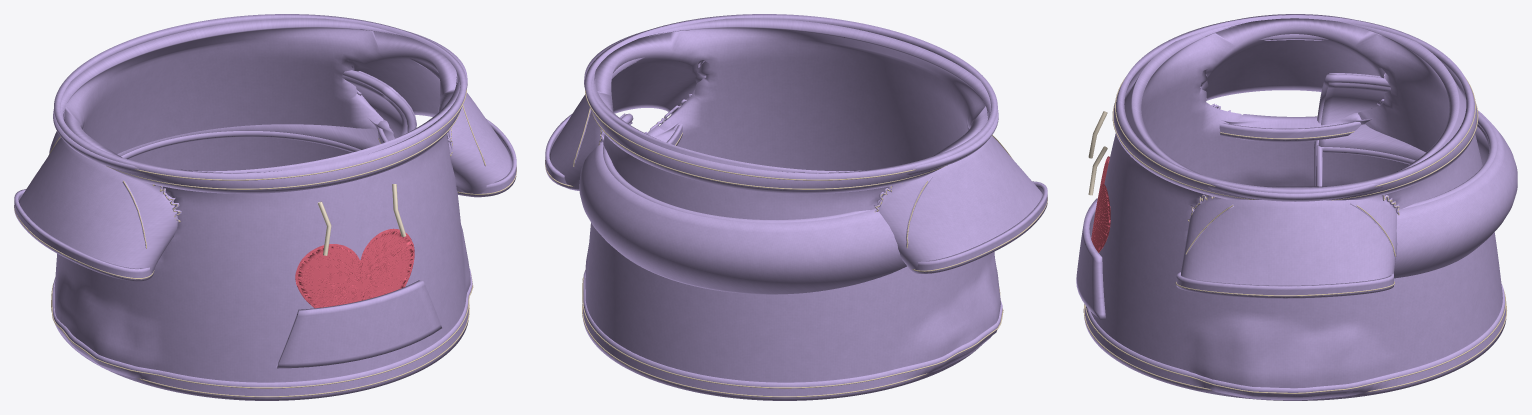
Rendered from sewn_hoodie_nido_penguin.glb.
3 views of the same model, side by side, from view 1: azimuth 30°, elevation 25°; view 2: azimuth 150°, elevation 25°; view 3: azimuth 270°, elevation 25° (orthographic).
Visible parts, largest first — view 1: Manga adaptada · Camiseta cosida continua, Dobladillo de algodón · Cuello, Panel · bolsillo canguro, Dobladillo de algodón · Bajo, Bordado corazón · tejido continuo, Panel · capucha bajada cosida, Ribete continuo de capucha, Dobladillo de manga cosida -1, Dobladillo de manga cosida 1, Pespunte · Bajo.001, Pespunte · Bajo, Pespunte · Cuello.001 (+1 smaller); view 2: Manga adaptada · Camiseta cosida continua, Panel · capucha bajada cosida, Dobladillo de algodón · Cuello, Dobladillo de algodón · Bajo, Dobladillo de manga cosida -1, Ribete continuo de capucha, Pespunte · Bajo.001, Dobladillo de manga cosida 1, Pespunte · Bajo, Pespunte · Cuello.001, Pespunte · Cuello; view 3: Manga adaptada · Camiseta cosida continua, Panel · capucha bajada cosida, Dobladillo de algodón · Cuello, Dobladillo de algodón · Bajo, Dobladillo de manga cosida 1, Ribete continuo de capucha, Panel · bolsillo canguro, Dobladillo de manga cosida -1, Bordado corazón · tejido continuo, Pespunte · Bajo.001, Pespunte · Cuello, Pespunte · Bajo (+1 smaller).
Part boxes in pixels (x1,y1,x2,y2): Manga adaptada · Camiseta cosida continua: (18, 18, 512, 382); Dobladillo de algodón · Cuello: (54, 14, 466, 193); Panel · bolsillo canguro: (276, 280, 441, 368); Dobladillo de algodón · Bajo: (52, 268, 472, 400); Bordado corazón · tejido continuo: (295, 228, 414, 308); Panel · capucha bajada cosida: (49, 71, 416, 156); Ribete continuo de capucha: (121, 70, 415, 159); Dobladillo de manga cosida -1: (14, 189, 153, 281); Dobladillo de manga cosida 1: (377, 119, 516, 196); Pespunte · Bajo.001: (51, 273, 473, 388); Pespunte · Bajo: (51, 300, 469, 397); Pespunte · Cuello.001: (135, 89, 466, 180); Manga adaptada · Camiseta cosida continua: (549, 18, 1042, 382); Panel · capucha bajada cosida: (579, 113, 906, 294); Dobladillo de algodón · Cuello: (585, 14, 997, 193); Dobladillo de algodón · Bajo: (583, 270, 1002, 400); Dobladillo de manga cosida -1: (910, 181, 1047, 273); Ribete continuo de capucha: (603, 113, 870, 222); Pespunte · Bajo.001: (582, 277, 1003, 388); Dobladillo de manga cosida 1: (545, 114, 682, 189); Pespunte · Bajo: (582, 304, 928, 397); Pespunte · Cuello.001: (585, 90, 916, 180); Pespunte · Cuello: (591, 112, 947, 189); Manga adaptada · Camiseta cosida continua: (1090, 14, 1502, 397); Panel · capucha bajada cosida: (1318, 73, 1517, 278); Dobladillo de algodón · Cuello: (1113, 15, 1477, 200); Dobladillo de algodón · Bajo: (1084, 283, 1506, 400); Dobladillo de manga cosida 1: (1176, 271, 1393, 298); Ribete continuo de capucha: (1314, 74, 1497, 208); Panel · bolsillo canguro: (1076, 198, 1105, 319); Dobladillo de manga cosida -1: (1219, 121, 1361, 141); Bordado corazón · tejido continuo: (1091, 156, 1110, 252); Pespunte · Bajo.001: (1084, 291, 1506, 393); Pespunte · Cuello: (1112, 103, 1478, 200); Pespunte · Bajo: (1083, 304, 1506, 392).
Bounding box in the file's own units: 0.6654 × 0.3077 × 0.5738.
Materials: 4 (2 with a texture image).
